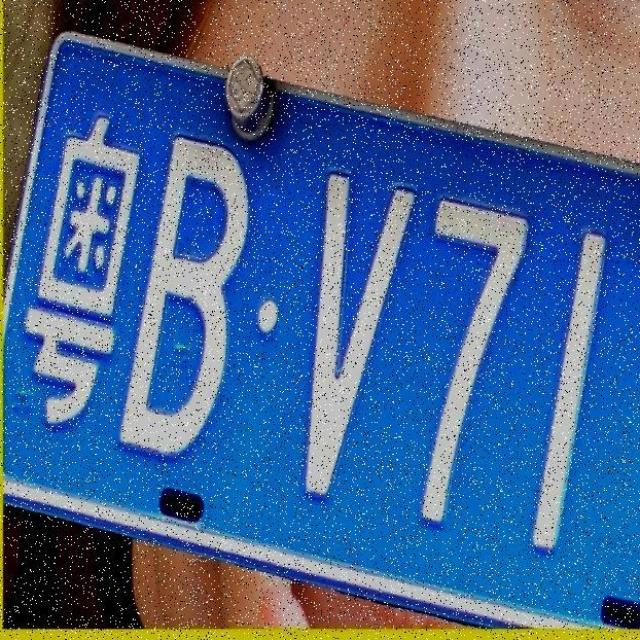LicensePlate: (4, 30, 640, 629)
